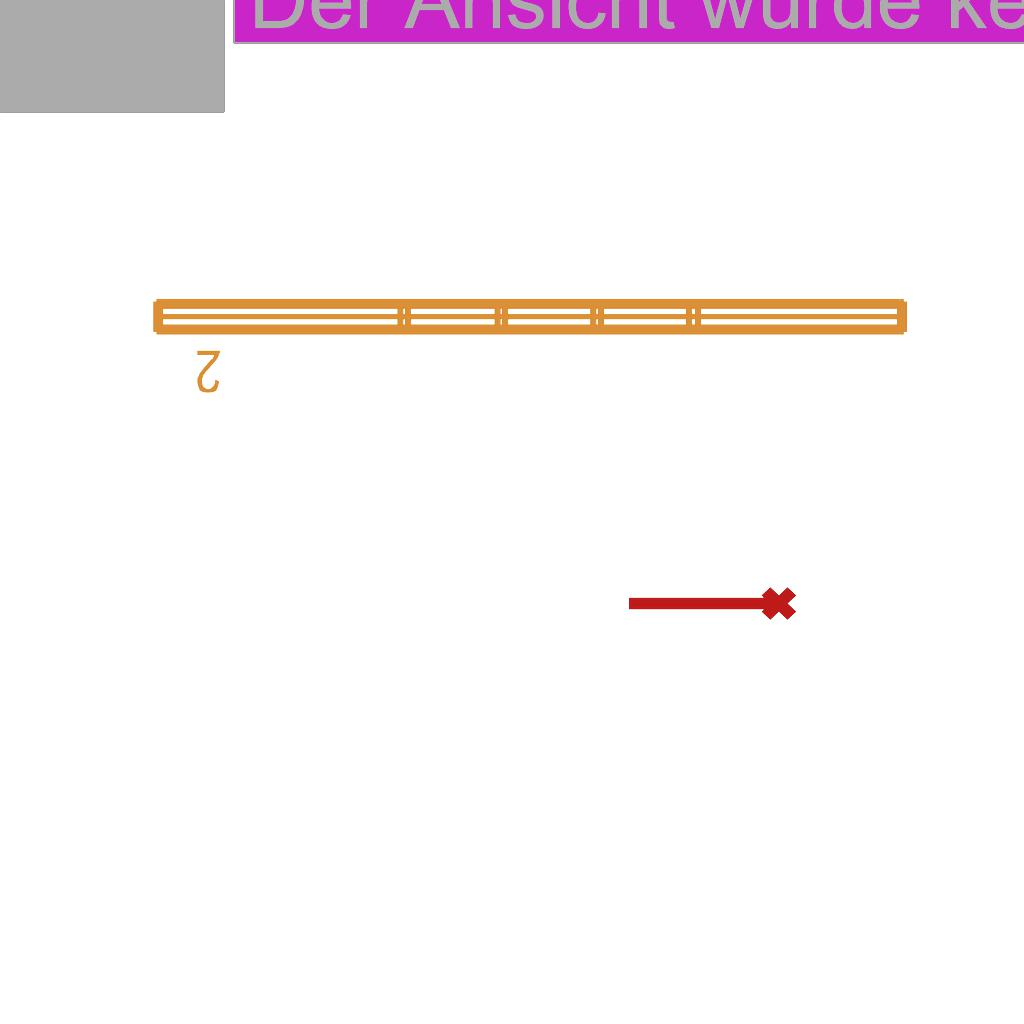ASR_Ansaugoeffnung: (623, 583, 799, 629)
Ambulanz_Pendelleuchte_LED: (144, 286, 918, 398)
